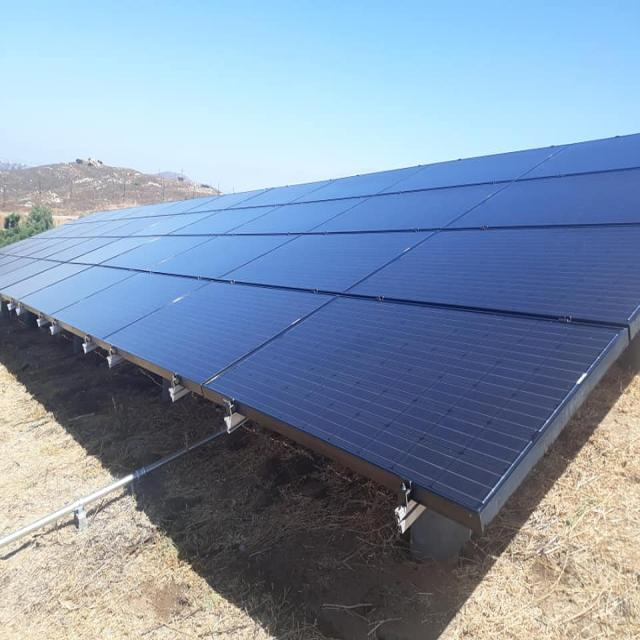clean-solar-panel: (0, 136, 640, 530)
